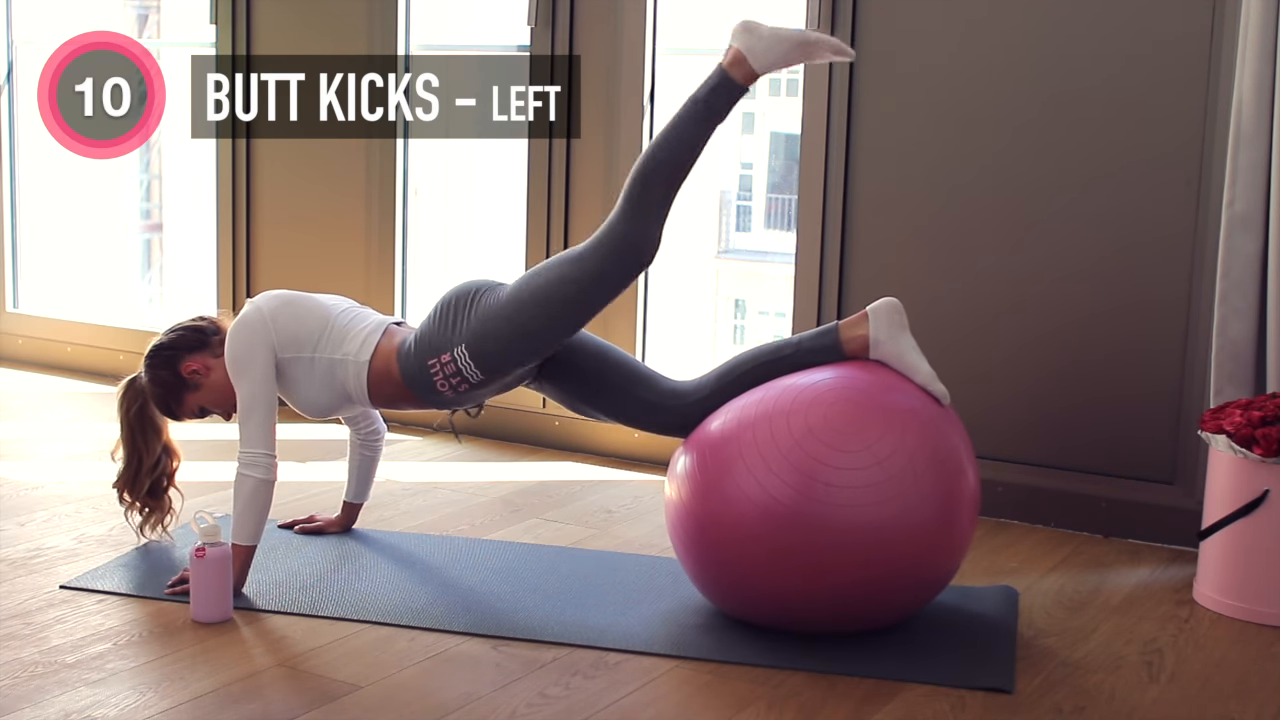yogaball: (661, 352, 989, 648)
